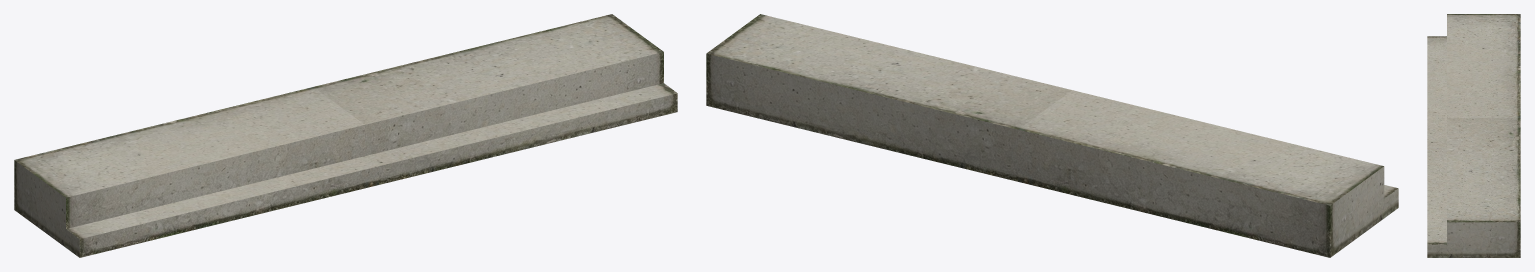
The model's file is env_curb.glb.
The picture shows the model from 3 angles, left to right: view 1: azimuth 30°, elevation 25°; view 2: azimuth 150°, elevation 25°; view 3: azimuth 270°, elevation 25°; orthographic projection. The views are drawn at different scales.
Visible parts, largest first — view 1: env_curb; view 2: env_curb; view 3: env_curb.
Part boxes in pixels (x1,y1,x2,y2): env_curb: [14, 14, 677, 257]; env_curb: [706, 14, 1398, 257]; env_curb: [1427, 14, 1520, 257].
Size of the model in its own units: 2 by 0.16 by 0.38.
1 material, 1 textured.
